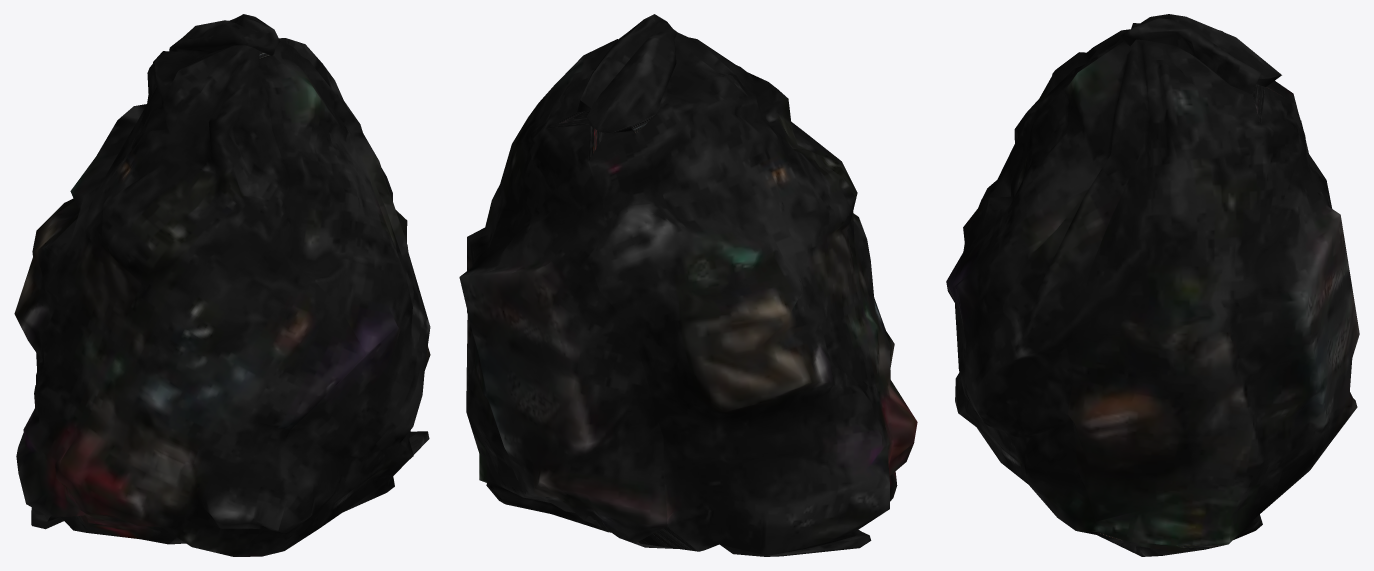
Rendered from trash_bag.glb.
3 views of the same model, side by side, from view 1: azimuth 30°, elevation 25°; view 2: azimuth 150°, elevation 25°; view 3: azimuth 270°, elevation 25° (orthographic). The views are drawn at different scales.
Parts seen in each view (by area): view 1: trashbag; view 2: trashbag; view 3: trashbag.
Part boxes in pixels (x1,y1,x2,y2): trashbag: [14, 14, 430, 556]; trashbag: [459, 14, 917, 556]; trashbag: [946, 14, 1359, 556].
Bounding box in the file's own units: 0.5237 × 0.575 × 0.4629.
Materials: 1 (1 with a texture image).
